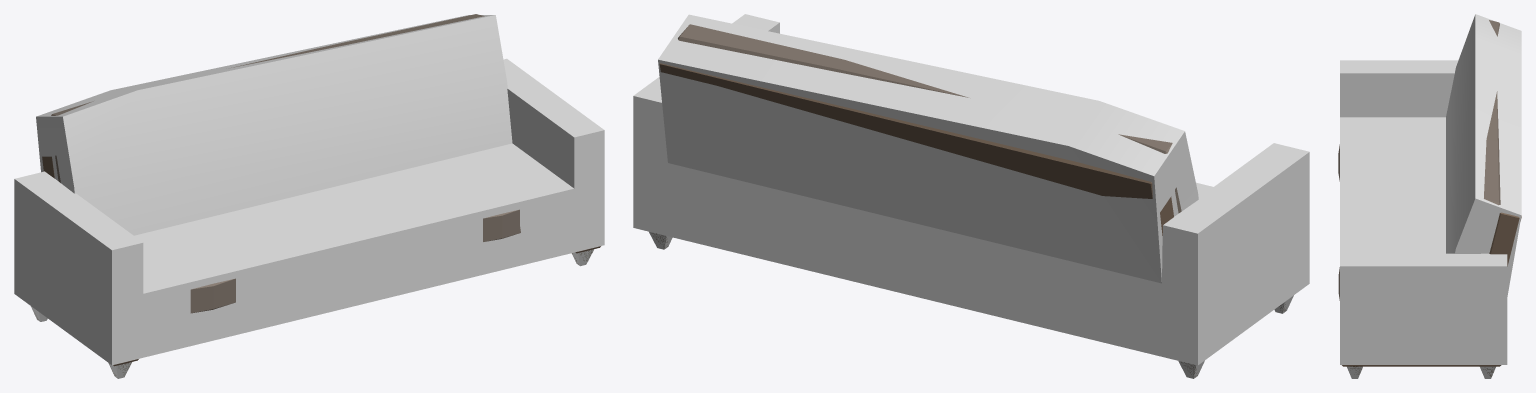
File: model_sofa_large.fbx
3 views of the same model, side by side, from view 1: azimuth 30°, elevation 25°; view 2: azimuth 150°, elevation 25°; view 3: azimuth 270°, elevation 25° (orthographic). The views are drawn at different scales.
Visible parts, largest first — view 1: model_sofa_large_col, model_sofa_large; view 2: model_sofa_large_col, model_sofa_large; view 3: model_sofa_large_col, model_sofa_large.
Boxes of the visible parts, x1,y1,x2,y2 form: model_sofa_large_col: [14, 15, 604, 378]; model_sofa_large: [34, 14, 600, 376]; model_sofa_large_col: [633, 14, 1309, 378]; model_sofa_large: [652, 24, 1285, 376]; model_sofa_large_col: [1340, 14, 1521, 378]; model_sofa_large: [1338, 20, 1521, 376].
Size of the model in its own units: 361 by 150 by 136.
2 materials, 1 textured.
